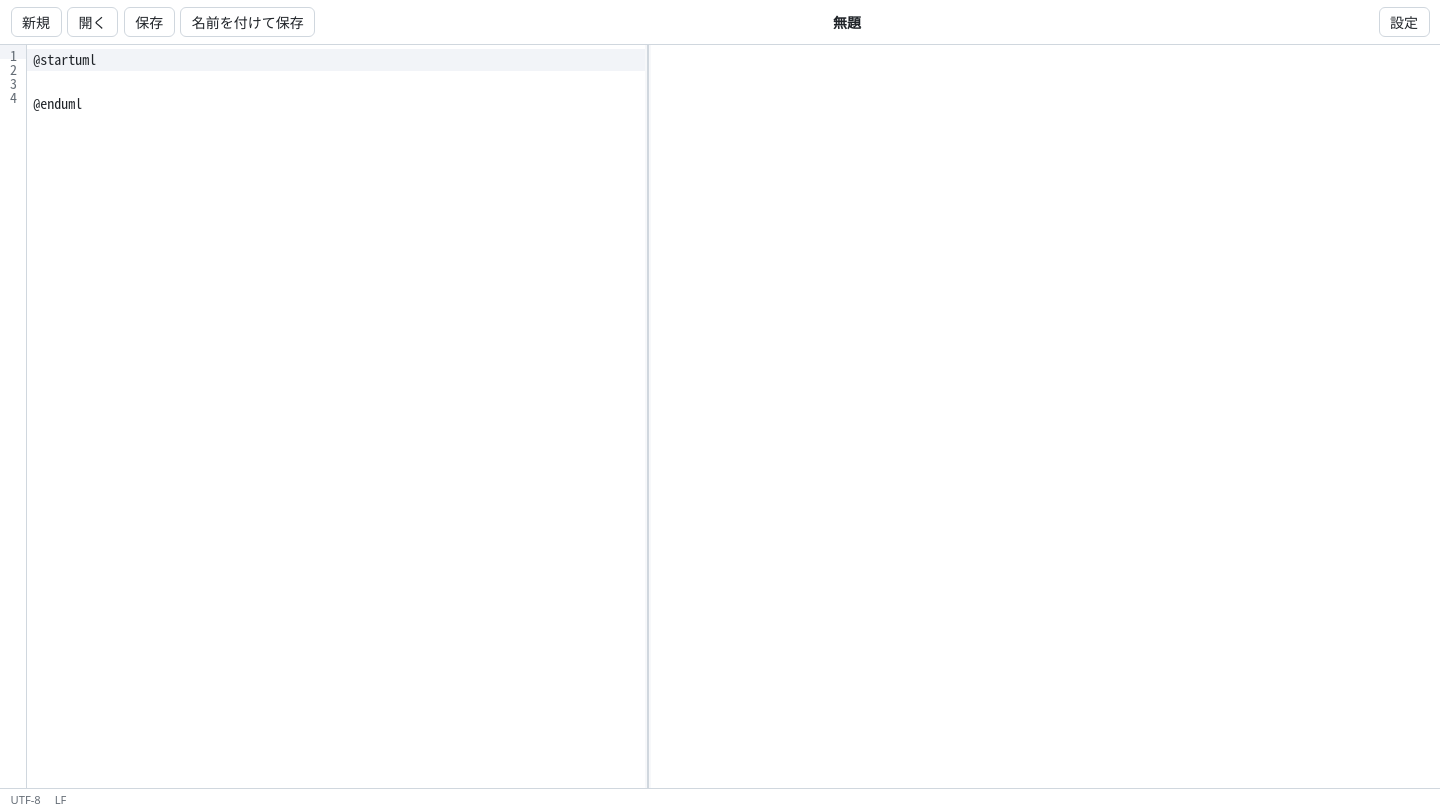
Test case: App › 新規ファイルの保存は保存先を尋ね、拡張子が無ければ .puml を付ける
The image size is (1440, 810).
Click the button "保存" at (149, 22), box [124,7,175,37]
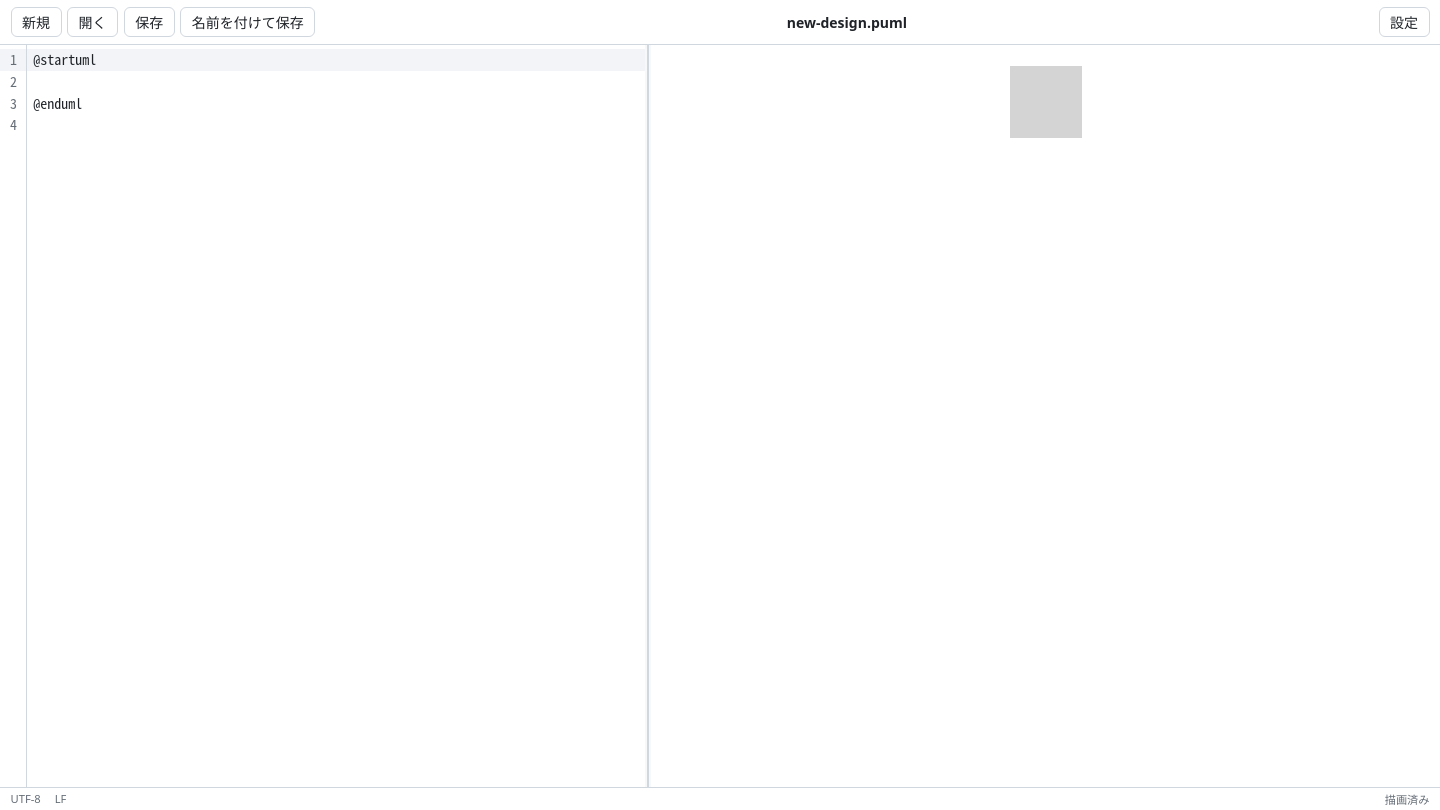
Check: the text "new-design.puml" is shown, box [787,13,907,32]
